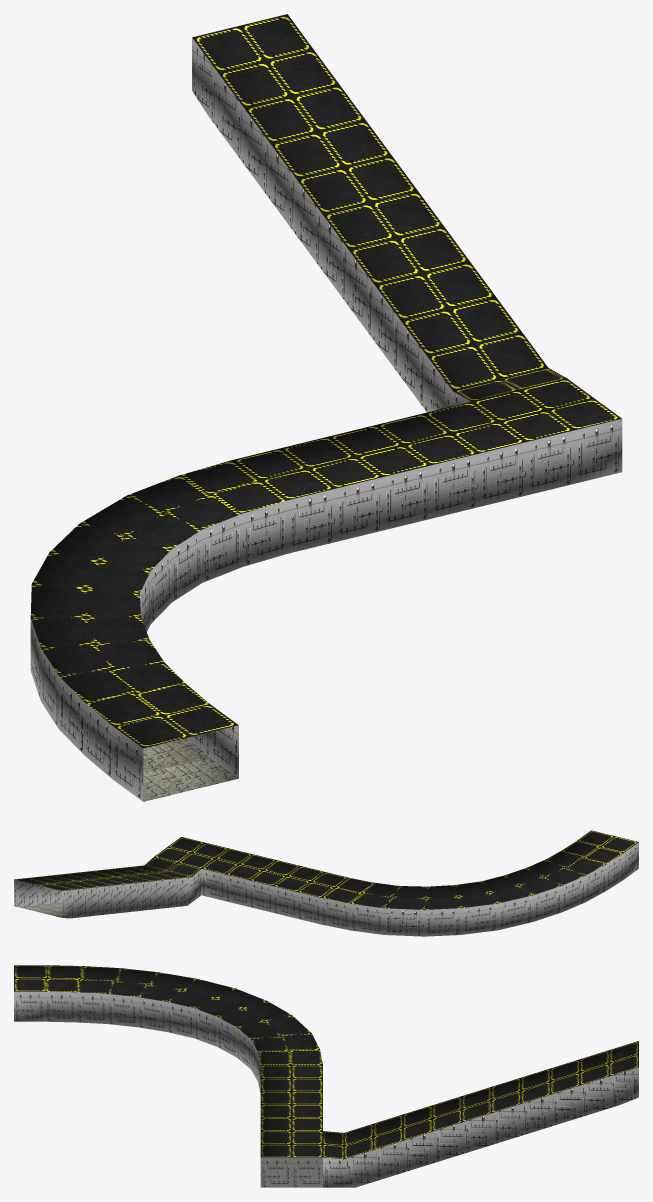
File: tunnel3.obj
3 renders of one model, top to bottom at view 1: azimuth 30°, elevation 25°; view 2: azimuth 150°, elevation 25°; view 3: azimuth 270°, elevation 25°, orthographic. The views are drawn at different scales.
Parts seen in each view (by area): view 1: tunnel3, tunnel3_wall1, tunnel3_wall2, tunnel3_floor; view 2: tunnel3_wall2, tunnel3, tunnel3_wall1, tunnel3_floor; view 3: tunnel3, tunnel3_wall1.
Boxes of the visible parts, x1,y1,x2,y2 form: tunnel3: (30, 14, 621, 748); tunnel3_wall1: (139, 419, 622, 778); tunnel3_wall2: (30, 38, 470, 801); tunnel3_floor: (143, 738, 238, 801); tunnel3_wall2: (61, 842, 638, 936); tunnel3: (14, 830, 638, 909); tunnel3_wall1: (14, 879, 61, 906); tunnel3_floor: (15, 902, 61, 917); tunnel3: (14, 965, 638, 1159); tunnel3_wall1: (14, 991, 638, 1187).
Size of the model in its own units: 292 by 85.34 by 401.
Materials: 3 (3 with a texture image).
